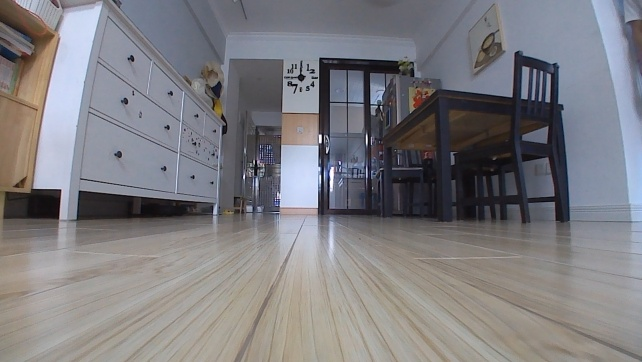cabinet: (31, 0, 226, 225)
dining_table: (372, 47, 575, 225)
door_anno: (254, 133, 281, 213), (238, 108, 258, 212)
refrigerator: (378, 72, 442, 218)
